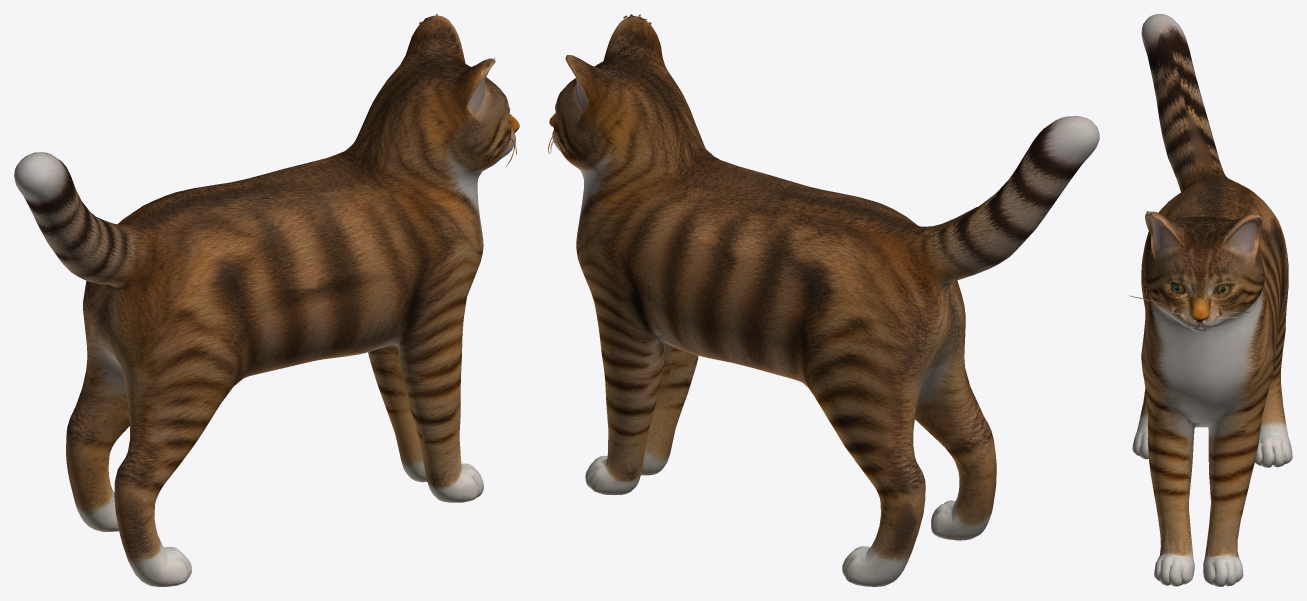
The model's file is DELILAHCAT.glb.
The picture shows the model from 3 angles, left to right: view 1: azimuth 30°, elevation 25°; view 2: azimuth 150°, elevation 25°; view 3: azimuth 270°, elevation 25°; orthographic projection. The views are drawn at different scales.
Parts seen in each view (by area): view 1: material; view 2: material; view 3: material.
Part boxes in pixels (box(x1,y1,x2,y2)): material: box(14, 14, 519, 586); material: box(548, 14, 1099, 586); material: box(1129, 14, 1292, 586).
Bounding box in the file's own units: 1.21 × 0.9989 × 0.3855.
1 material, 1 textured.
